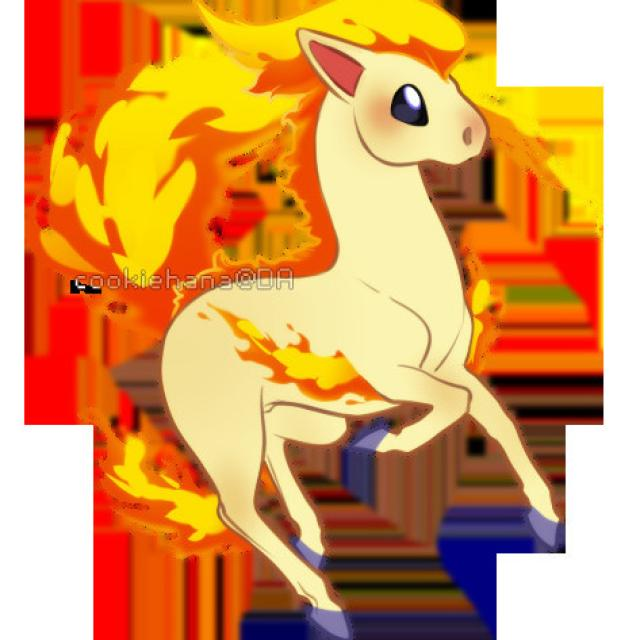Ponyta: (130, 22, 507, 560)
